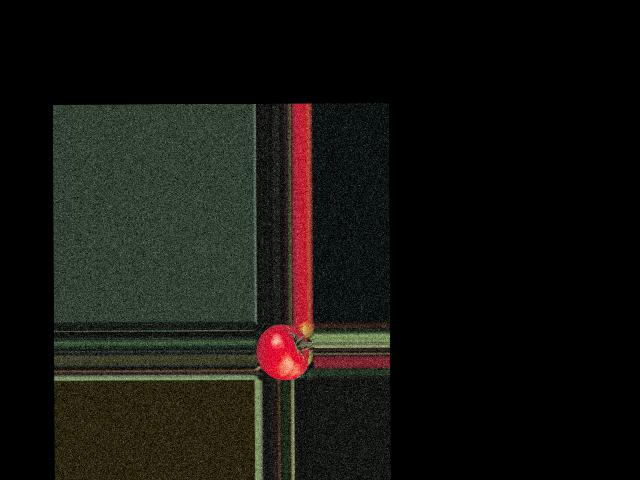tomato: (255, 325, 308, 380)
